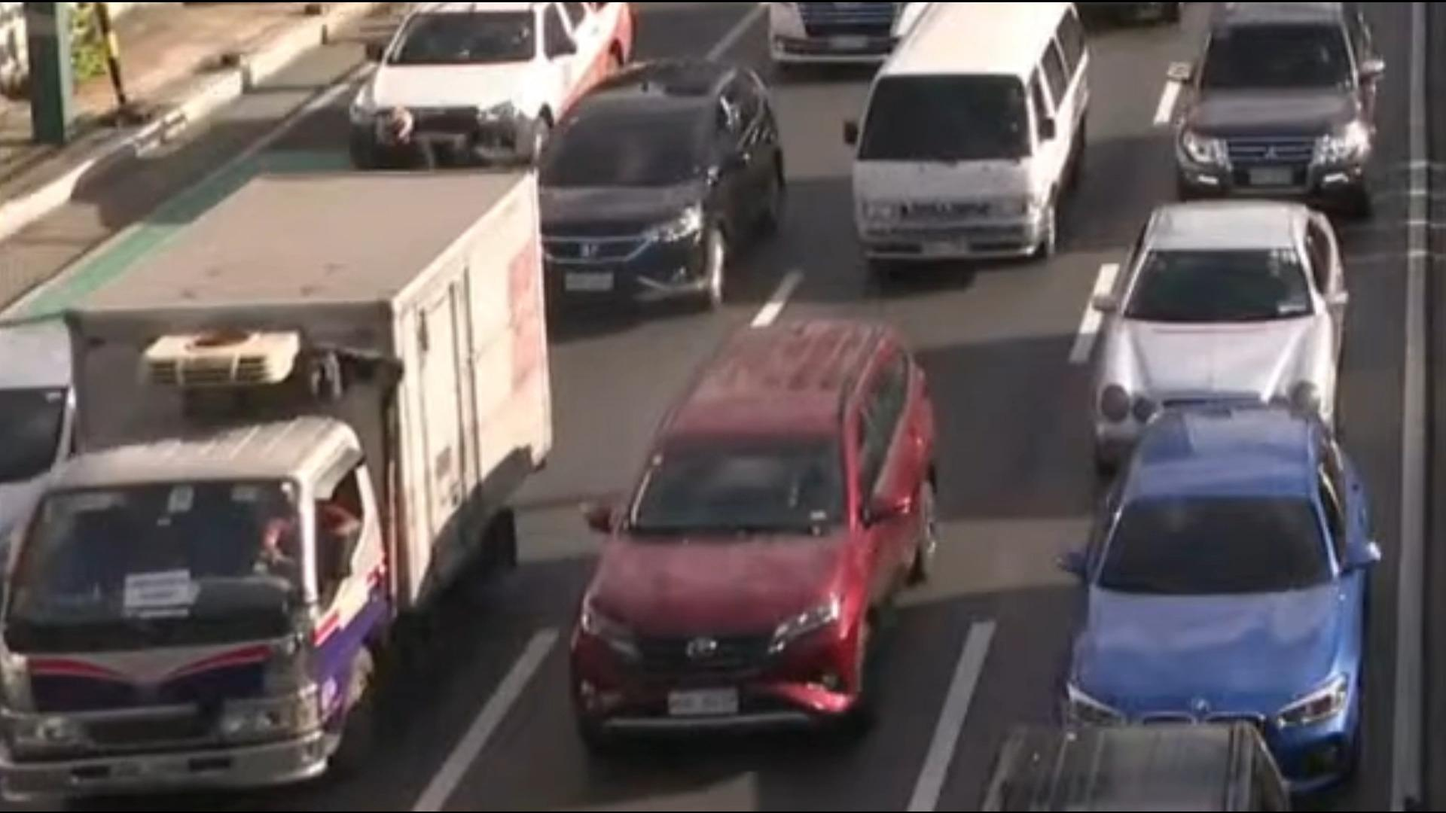Pickup: (323, 0, 639, 184)
SUV: (569, 305, 968, 752), (1037, 391, 1443, 794), (518, 51, 816, 328), (1143, 2, 1412, 229)
Sedan: (1043, 206, 1380, 467)
Truck: (0, 158, 612, 813)
Van: (844, 0, 1113, 304)
